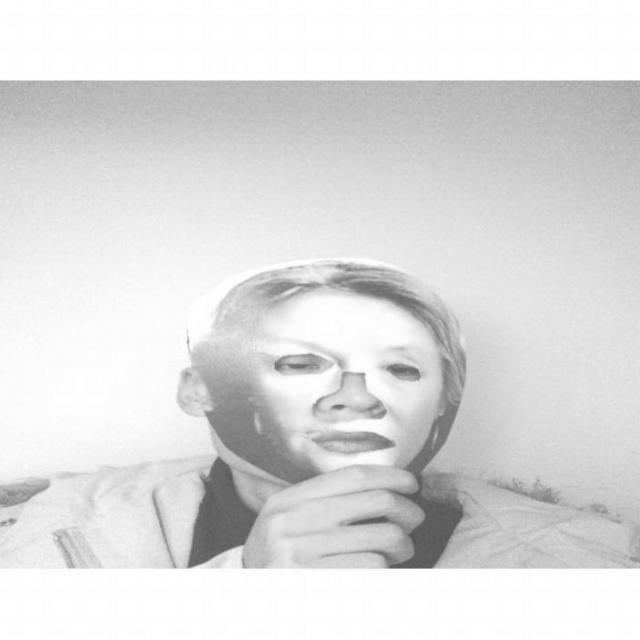fake: (182, 256, 476, 482)
